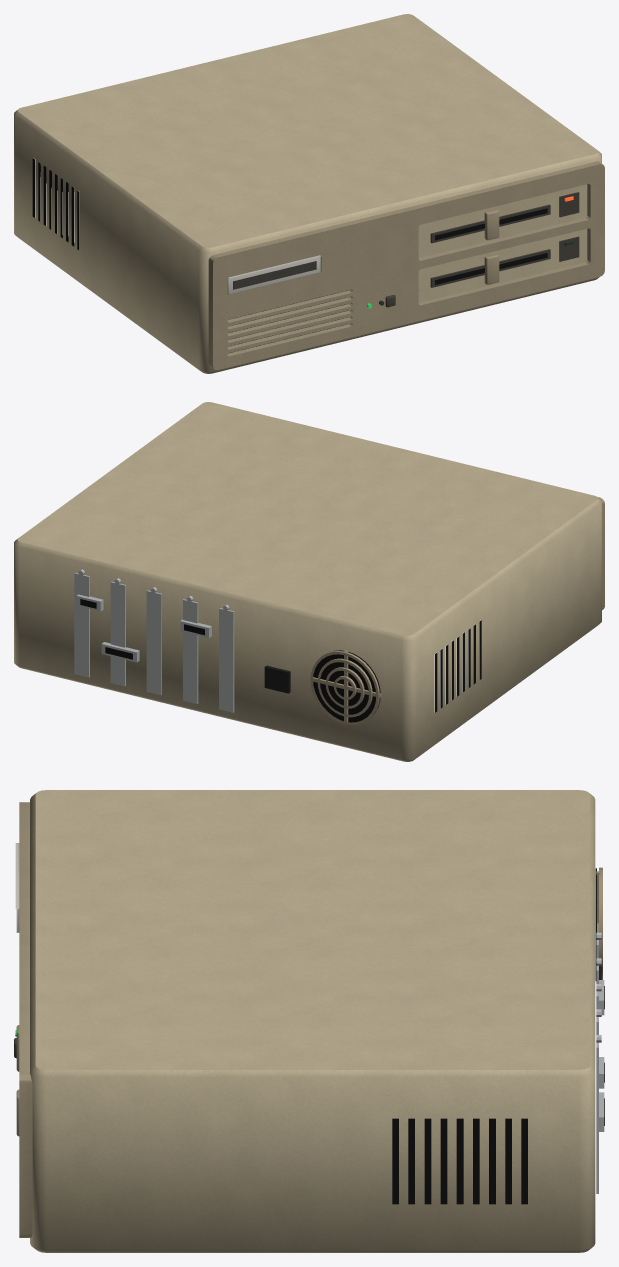
Rendered from monitor_base.gltf.
3 renders of one model, top to bottom at view 1: azimuth 30°, elevation 25°; view 2: azimuth 150°, elevation 25°; view 3: azimuth 270°, elevation 25°, orthographic. The views are drawn at different scales.
Visible parts, largest first — view 1: monitor_base; view 2: monitor_base; view 3: monitor_base.
Part boxes in pixels (x1,y1,x2,y2): monitor_base: (14,14,604,373); monitor_base: (14,402,604,761); monitor_base: (14,790,604,1252).
Size of the model in its own units: 0.5008 by 0.158 by 0.4391.
10 materials, 3 textured.
